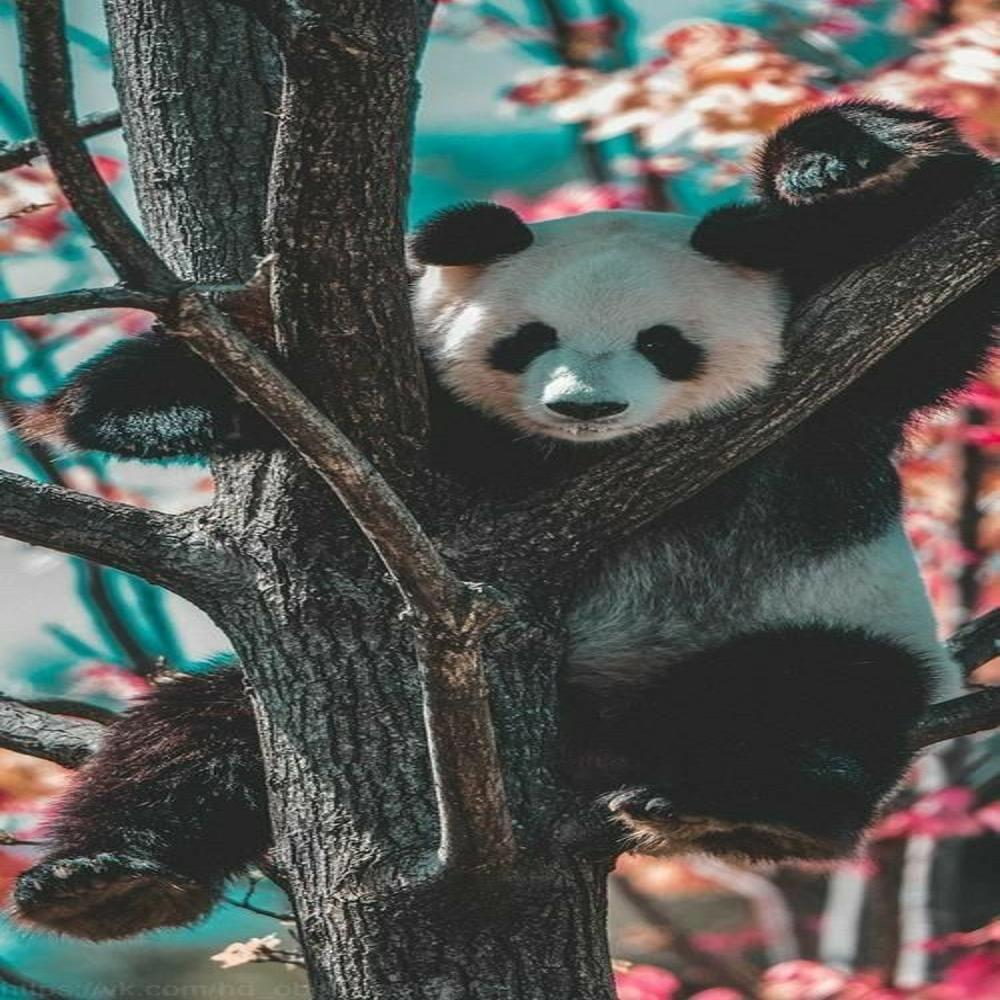panda: (28, 200, 902, 928)
